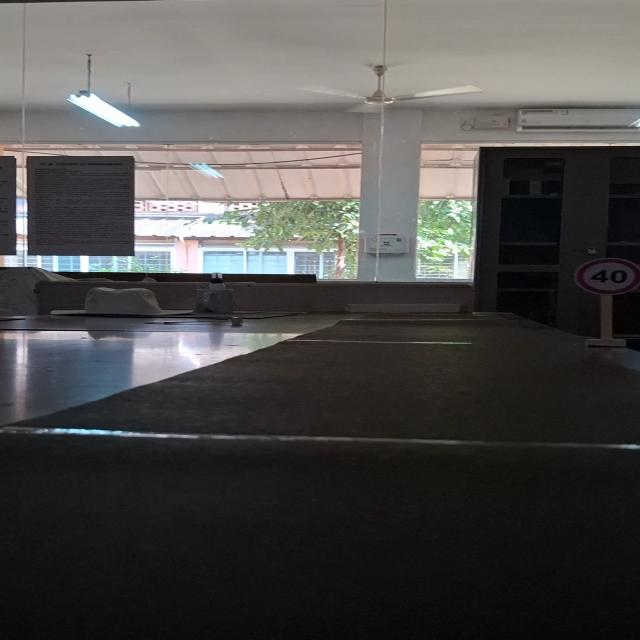Speed40: (571, 255, 640, 297)
